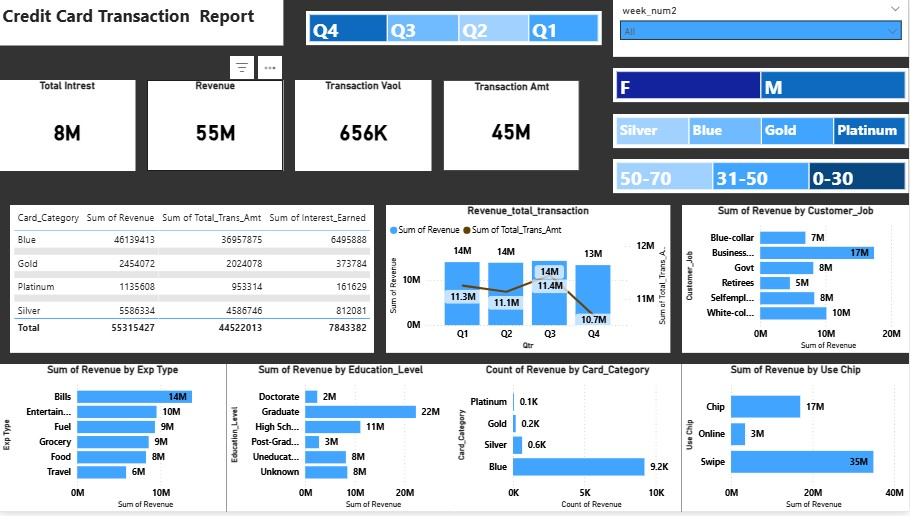

This screenshot's page, from the dashboard's own definition file:
{"tool":"powerbi","page":{"name":"CCtransaction","canvas":[1280,720],"ordinal":0},"visuals":[{"type":"lineStackedColumnComboChart","title":"Revenue_total_transaction ","fields":{"Category":["credit_card.Qtr"],"Y":["Sum(credit_card.Revenue)"],"Y2":["Sum(credit_card.Total_Trans_Amt)"]},"box":[544,288,400,208],"z":0},{"type":"barChart","fields":{"Category":["credit_card.Exp Type"],"Y":["Sum(credit_card.Revenue)"]},"box":[0,512,320,208],"z":1000},{"type":"barChart","fields":{"Category":["customer.Education_Level"],"Y":["Sum(credit_card.Revenue)"]},"box":[320,512,320,208],"z":2000},{"type":"barChart","fields":{"Y":["CountNonNull(credit_card.Revenue)"],"Category":["credit_card.Card_Category"]},"box":[640,512,320,208],"z":3000},{"type":"barChart","fields":{"Y":["Sum(credit_card.Revenue)"],"Category":["customer.Customer_Job"]},"box":[960,288,320,208],"z":4000},{"type":"barChart","fields":{"Y":["Sum(credit_card.Revenue)"],"Category":["credit_card.Use Chip"]},"box":[960,512,320,208],"z":5000},{"type":"tableEx","fields":{"Values":["credit_card.Card_Category","Sum(credit_card.Revenue)","Sum(credit_card.Total_Trans_Amt)","Sum(credit_card.Interest_Earned)"]},"box":[16,288,512,208],"z":6000},{"type":"card","title":"Revenue","fields":{"Values":["Sum(credit_card.Revenue)"]},"box":[208,112,192,128],"z":7000},{"type":"card","title":"Transaction  Amt","fields":{"Values":["Sum(credit_card.Total_Trans_Amt)"]},"box":[624,112,192,128],"z":8000},{"type":"card","title":"Total Intrest","fields":{"Values":["Sum(credit_card.Interest_Earned)"]},"box":[0,112,192,128],"z":9000},{"type":"card","title":"Transaction Vaol","fields":{"Values":["Sum(credit_card.Total_Trans_Vol)"]},"box":[416,112,192,128],"z":10000},{"type":"textbox","box":[0,0,400,64],"z":11000},{"type":"slicer","fields":{"Values":["credit_card.week_num2"]},"box":[864,0,416,80],"z":12000},{"type":"treemap","fields":{"Group":["credit_card.Qtr"],"Values":["Avg(credit_card.Client_Num)"]},"box":[432,16,416,48],"z":13000},{"type":"treemap","fields":{"Values":["Avg(credit_card.Client_Num)"],"Group":["customer.Gender"]},"box":[864,96,416,48],"z":14000},{"type":"treemap","fields":{"Values":["Avg(credit_card.Client_Num)"],"Group":["customer.Grup_by_age"]},"box":[864,224,416,48],"z":15000},{"type":"treemap","fields":{"Values":["Avg(credit_card.Client_Num)"],"Group":["credit_card.Card_Category"]},"box":[864,160,416,48],"z":16000}]}

Visuals, with their boxes in screenshot pixels (x1, y1, x2, y2), scaled from the page's 1280x720 canvas onto the 910x516 screenshot:
"Revenue_total_transaction " lineStackedColumnComboChart: left=387, top=206, right=671, bottom=355
barChart - credit_card.Exp Type x Sum(credit_card.Revenue): left=0, top=367, right=228, bottom=515
barChart - customer.Education_Level x Sum(credit_card.Revenue): left=228, top=367, right=455, bottom=515
barChart - CountNonNull(credit_card.Revenue) x credit_card.Card_Category: left=455, top=367, right=682, bottom=515
barChart - Sum(credit_card.Revenue) x customer.Customer_Job: left=682, top=206, right=909, bottom=355
barChart - Sum(credit_card.Revenue) x credit_card.Use Chip: left=682, top=367, right=909, bottom=515
tableEx - credit_card.Card_Category x Sum(credit_card.Revenue): left=11, top=206, right=375, bottom=355
"Revenue" card: left=148, top=80, right=284, bottom=172
"Transaction  Amt" card: left=444, top=80, right=580, bottom=172
"Total Intrest" card: left=0, top=80, right=136, bottom=172
"Transaction Vaol" card: left=296, top=80, right=432, bottom=172
textbox: left=0, top=0, right=284, bottom=46
slicer - credit_card.week_num2: left=614, top=0, right=909, bottom=57
treemap - credit_card.Qtr x Avg(credit_card.Client_Num): left=307, top=11, right=603, bottom=46
treemap - Avg(credit_card.Client_Num) x customer.Gender: left=614, top=69, right=909, bottom=103
treemap - Avg(credit_card.Client_Num) x customer.Grup_by_age: left=614, top=161, right=909, bottom=195
treemap - Avg(credit_card.Client_Num) x credit_card.Card_Category: left=614, top=115, right=909, bottom=149
